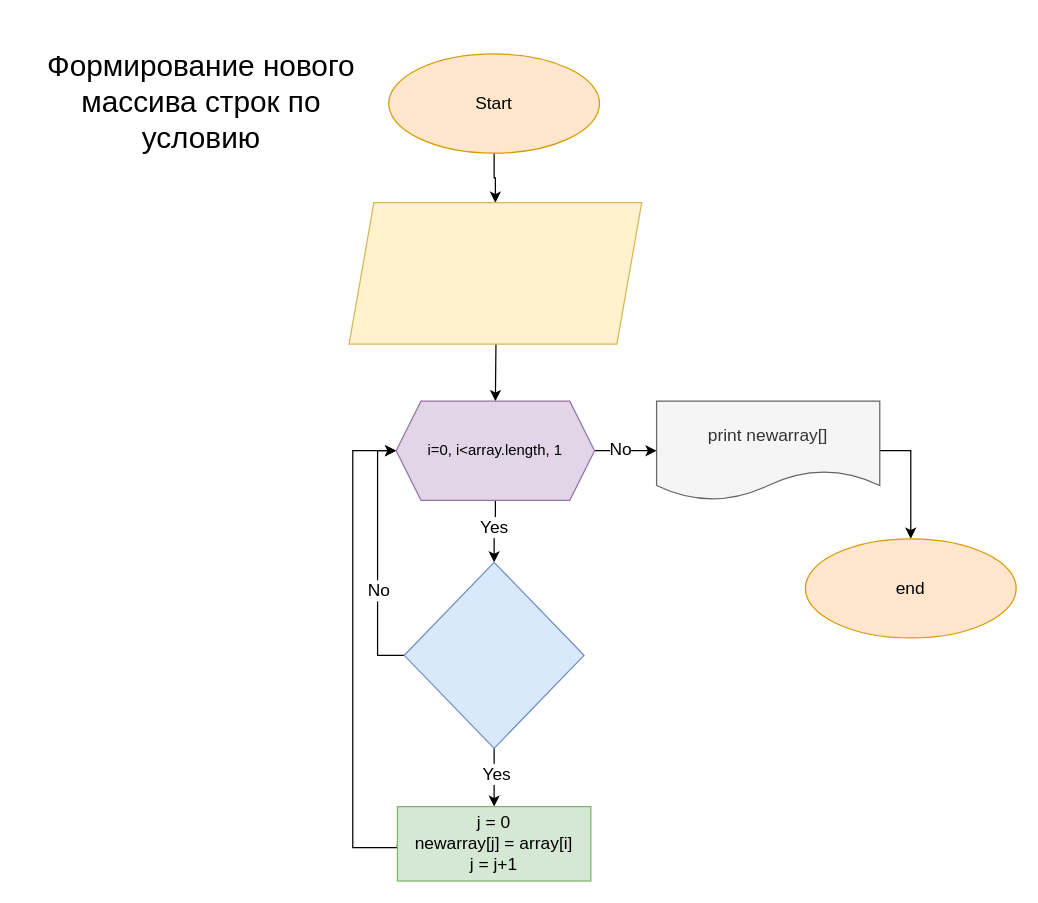
This 1038x903 diagram has some shape labels left out. Here are the shapes that lost their labels. From the top down, the centre of each, then its label:
point 495,273: array ["hello", "2", "world", ";-)"] newarray []
point 493,654: length array[i]<=3
